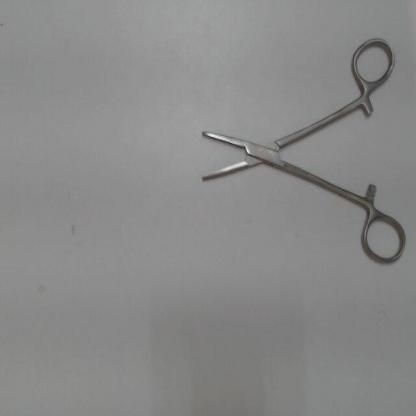Mayo Needle Holder: (194, 34, 409, 270)
